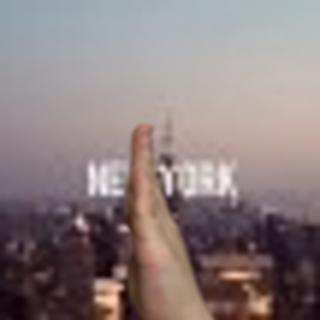RIGHT: (109, 119, 221, 320)
